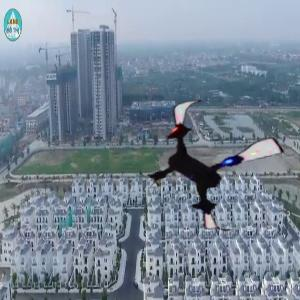drone: (141, 92, 286, 237)
